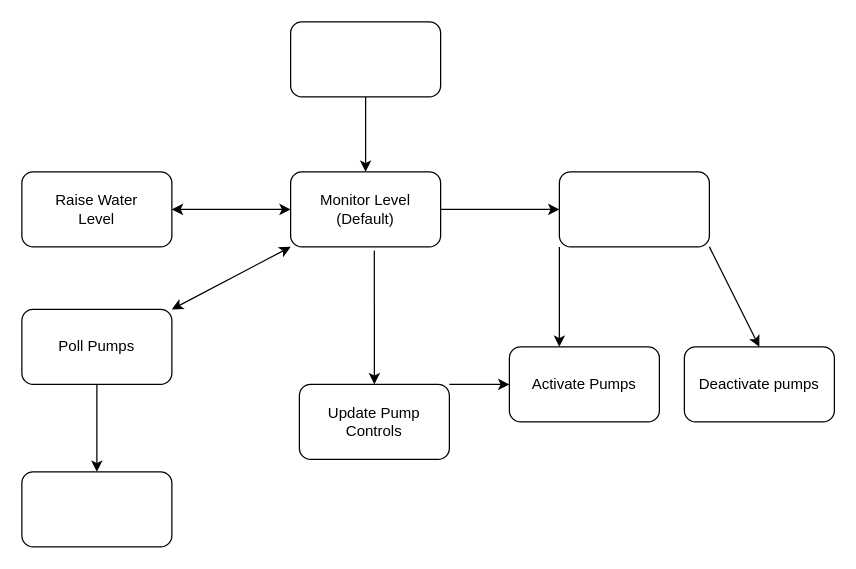
Image size: 856x569. Some labels were removed from this diagram. Here are the shapes that lost their labels. From the top down, the box of each, then its label:
(289, 21, 441, 97): Init
(558, 171, 709, 247): Check Sensors
(21, 471, 172, 547): Lower Water Level
